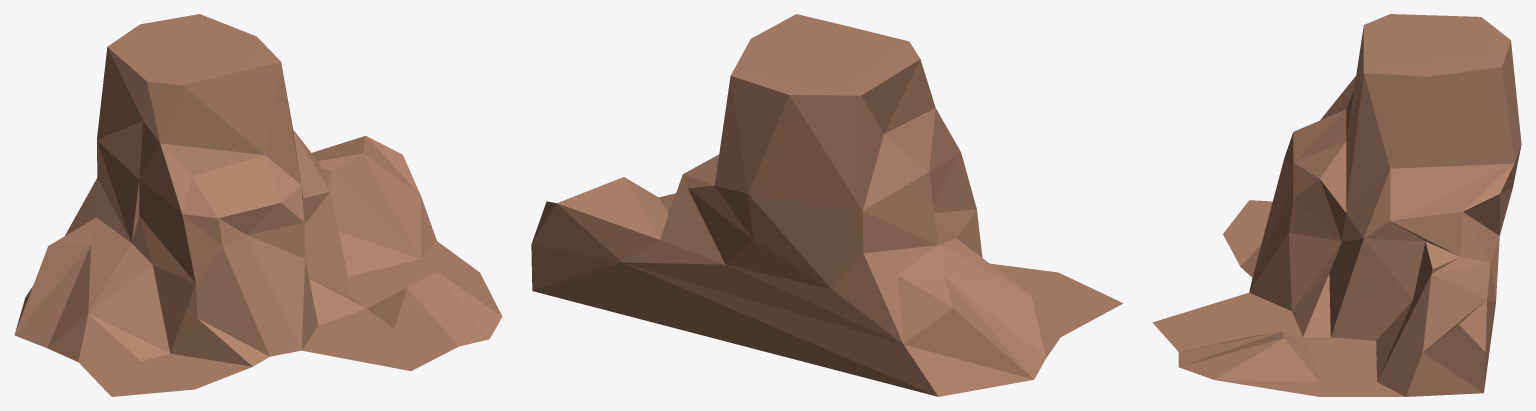
Rendered from 08 Mountain_3.FBX.
3 views of the same model, side by side, from view 1: azimuth 30°, elevation 25°; view 2: azimuth 150°, elevation 25°; view 3: azimuth 270°, elevation 25° (orthographic). The views are drawn at different scales.
Visible parts, largest first — view 1: Mountain_3; view 2: Mountain_3; view 3: Mountain_3.
Part boxes in pixels (x1,y1,x2,y2): Mountain_3: (14, 14, 502, 396); Mountain_3: (531, 14, 1123, 396); Mountain_3: (1152, 14, 1521, 396).
Bounding box in the file's own units: 3113 × 1715 × 2410.
